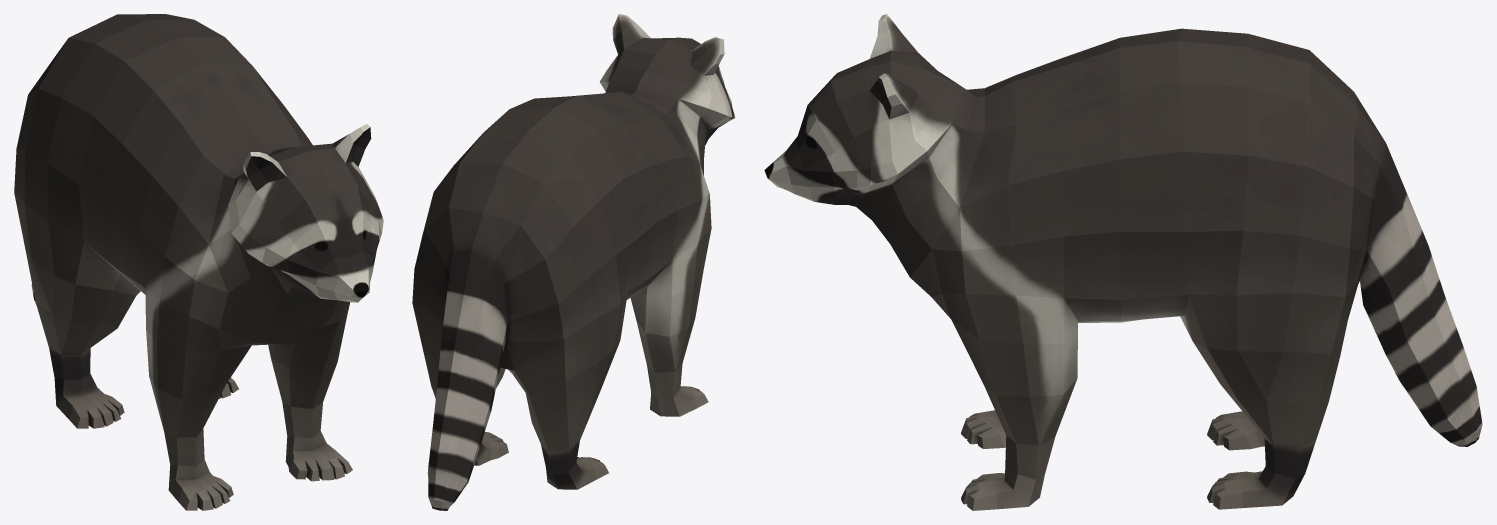
File: prop_pz_raccoon.glb
3 renders of one model, left to right at view 1: azimuth 30°, elevation 25°; view 2: azimuth 150°, elevation 25°; view 3: azimuth 270°, elevation 25°, orthographic. The views are drawn at different scales.
Visible parts, largest first — view 1: Raccoon_Mesh; view 2: Raccoon_Mesh; view 3: Raccoon_Mesh.
Boxes of the visible parts, x1,y1,x2,y2 form: Raccoon_Mesh: (14, 14, 383, 510); Raccoon_Mesh: (412, 14, 735, 510); Raccoon_Mesh: (764, 14, 1482, 510).
Size of the model in its own units: 1.83 by 3.29 by 5.03.
1 material, 1 textured.
